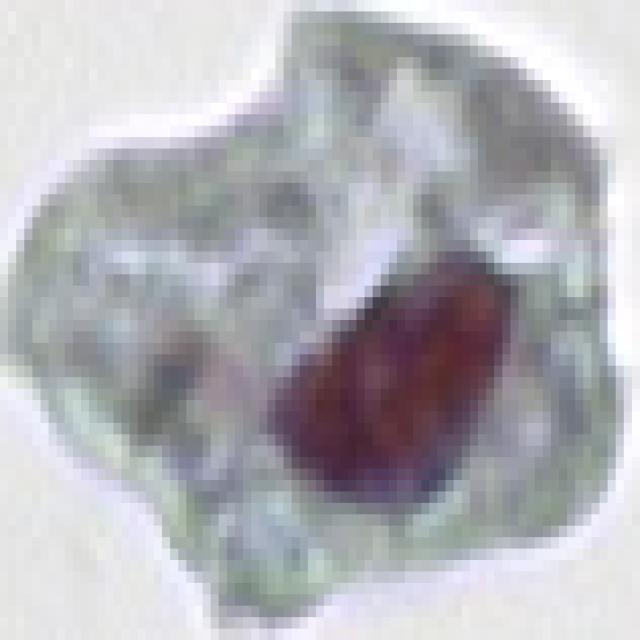nucleus: (244, 209, 557, 548)
